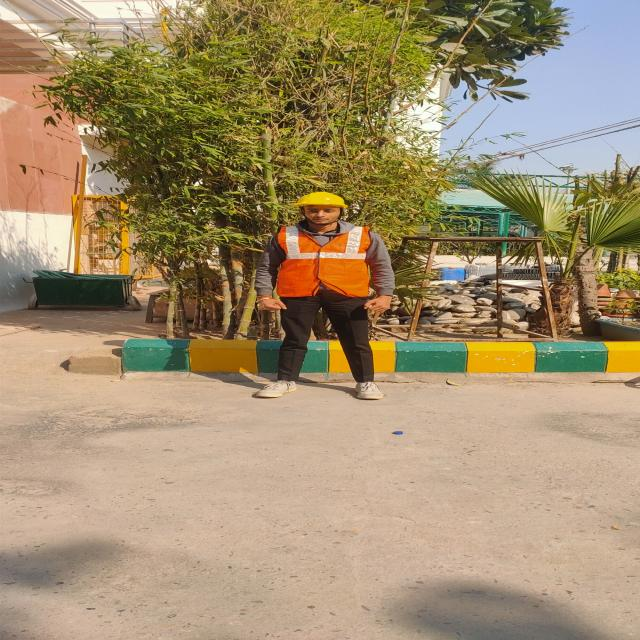safe: (259, 194, 395, 399)
